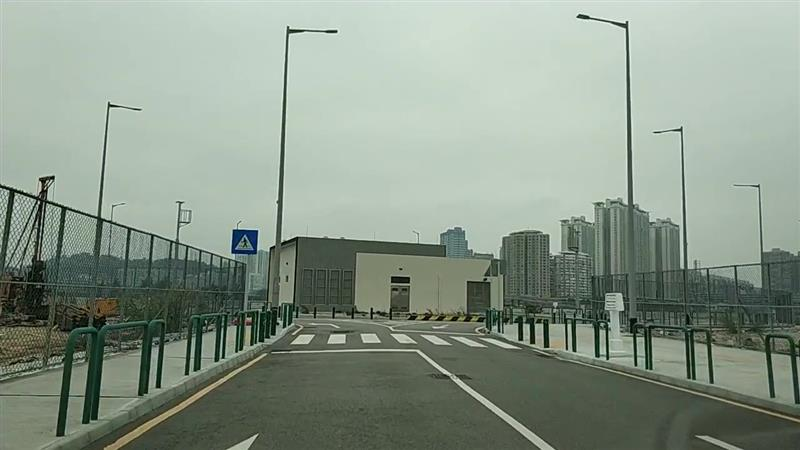pedestriansBlue: (230, 228, 259, 255)
roadDown: (429, 322, 450, 329)
roadTurnLeft: (309, 320, 340, 331)
